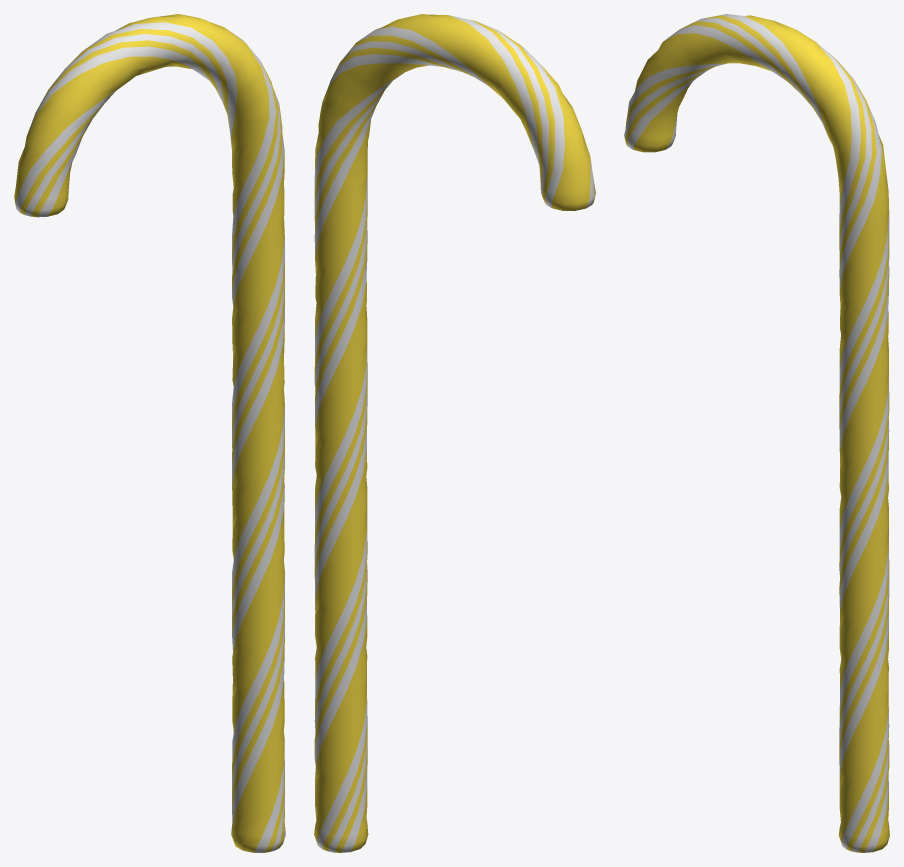
File: Polkagris_13.glb
3 views of the same model, side by side, from view 1: azimuth 30°, elevation 25°; view 2: azimuth 150°, elevation 25°; view 3: azimuth 330°, elevation 25° (orthographic). The views are drawn at different scales.
Visible parts, largest first — view 1: Polkagrisar.013; view 2: Polkagrisar.013; view 3: Polkagrisar.013.
Part boxes in pixels (x1,y1,x2,y2): Polkagrisar.013: [14, 14, 285, 852]; Polkagrisar.013: [314, 14, 595, 852]; Polkagrisar.013: [624, 14, 889, 852].
Size of the model in its own units: 0.8203 by 2.48 by 0.1717.
